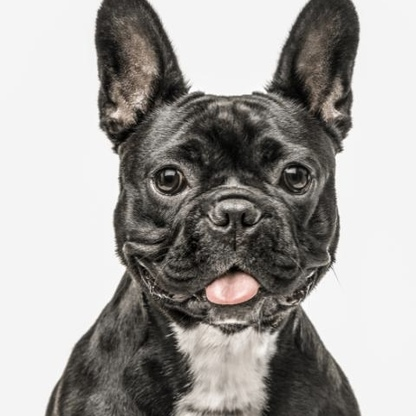bulldog: (88, 8, 351, 361)
